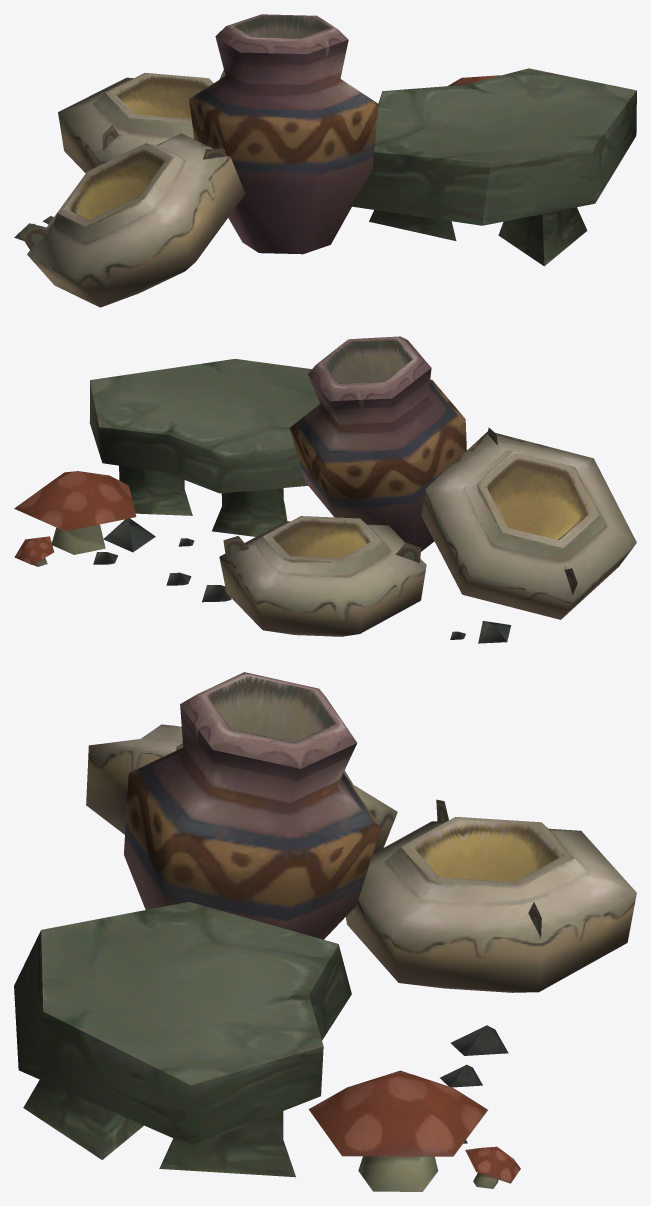
Rendered from environment_common_zawu_001_a.FBX.
3 renders of one model, top to bottom at view 1: azimuth 30°, elevation 25°; view 2: azimuth 150°, elevation 25°; view 3: azimuth 270°, elevation 25°, orthographic. The views are drawn at different scales.
Visible parts, largest first — view 1: environment_common_zawu_001_a; view 2: environment_common_zawu_001_a; view 3: environment_common_zawu_001_a.
Part boxes in pixels (x1=…): environment_common_zawu_001_a: x1=14, y1=14, x2=636, y2=307; environment_common_zawu_001_a: x1=14, y1=336, x2=636, y2=643; environment_common_zawu_001_a: x1=14, y1=672, x2=636, y2=1191.
Bounding box in the file's own units: 220 × 84.77 × 155.
1 material, 1 textured.
